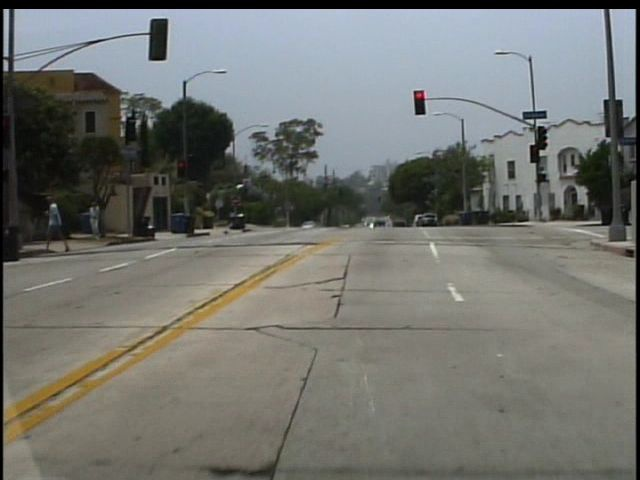person: (46, 192, 74, 252), (93, 201, 107, 242)
